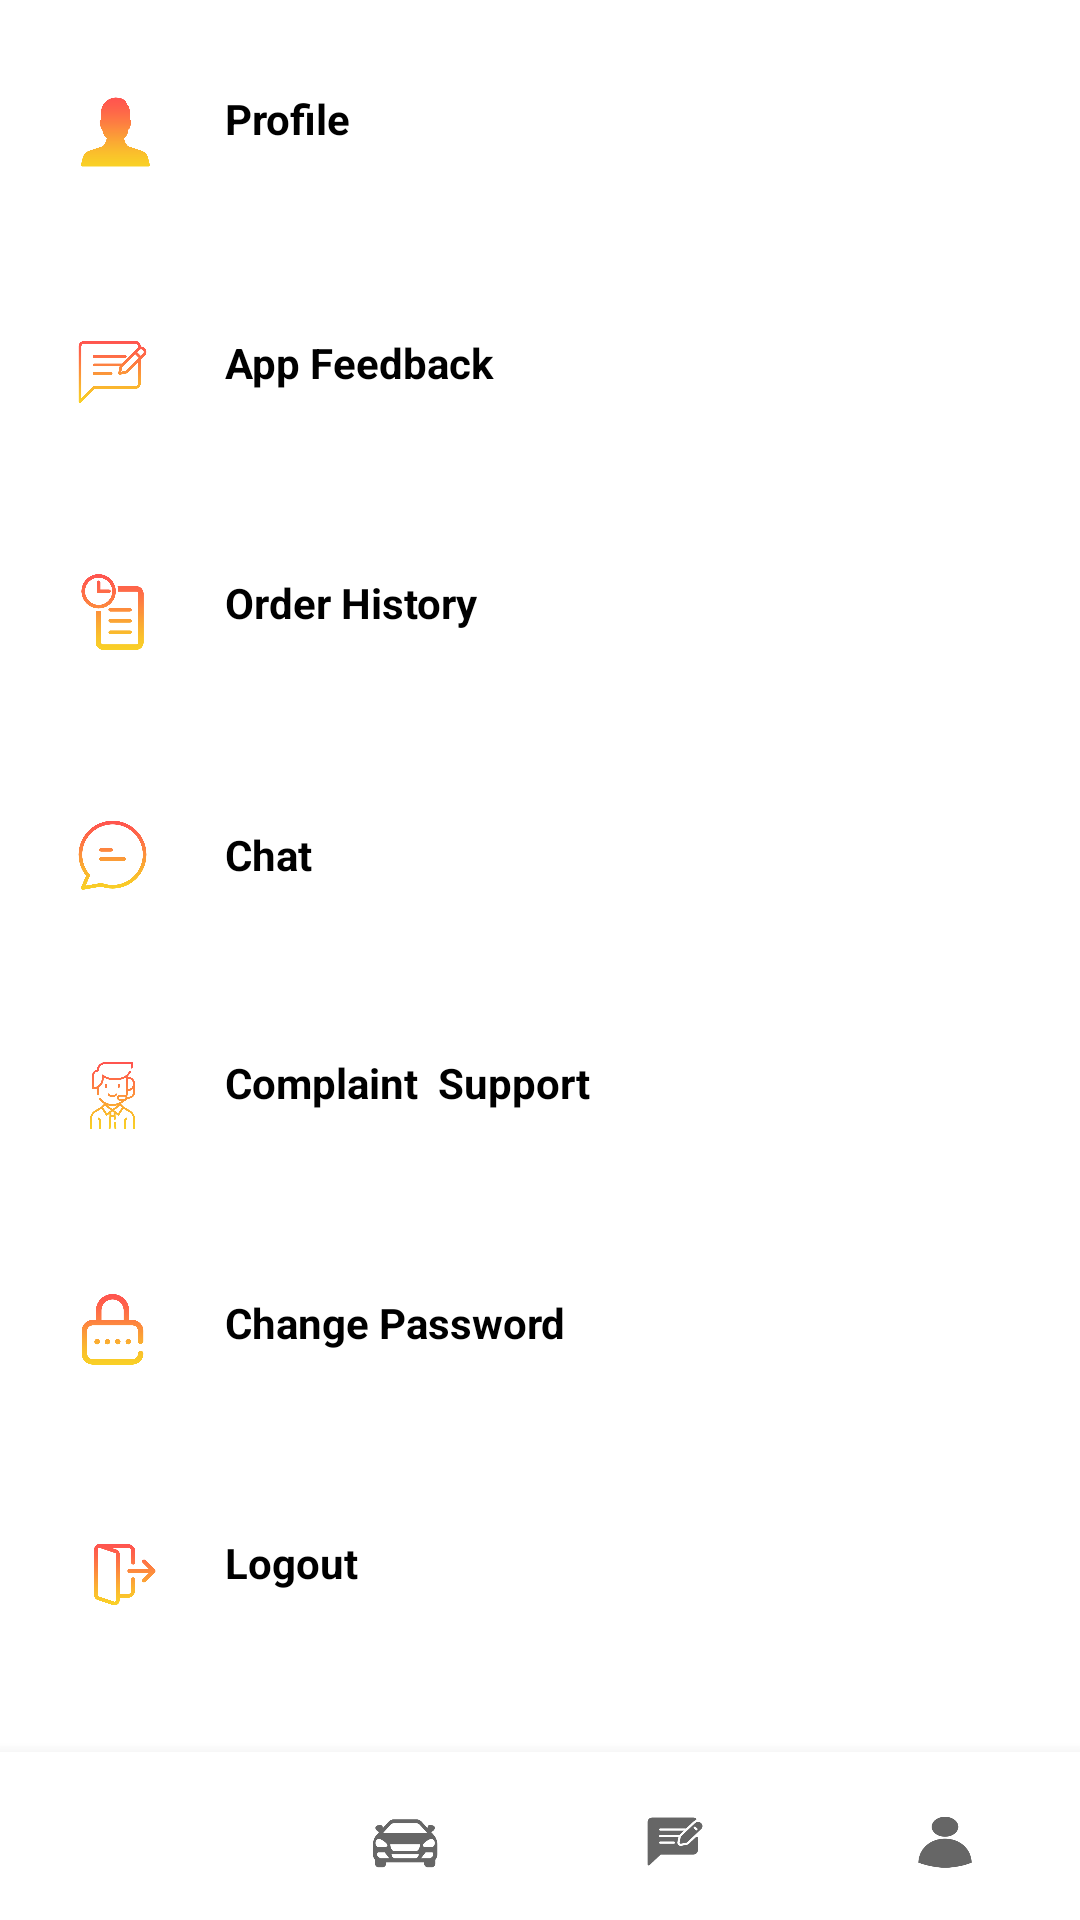

Icons on this 1080x1920 Android screen, each with its box as (x1, y1, x2, y2):
log: (94, 1544, 156, 1605)
ord: (81, 574, 144, 650)
